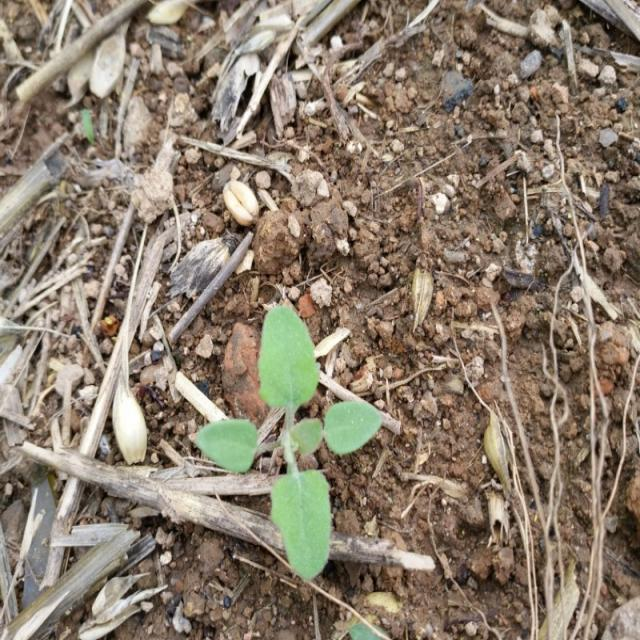ca: (196, 303, 380, 582)
